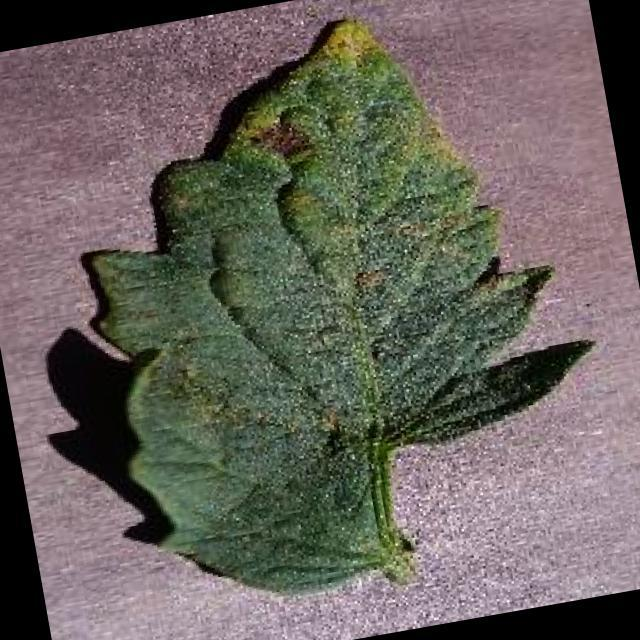Tomato Early blight leaf: (48, 0, 572, 617)
